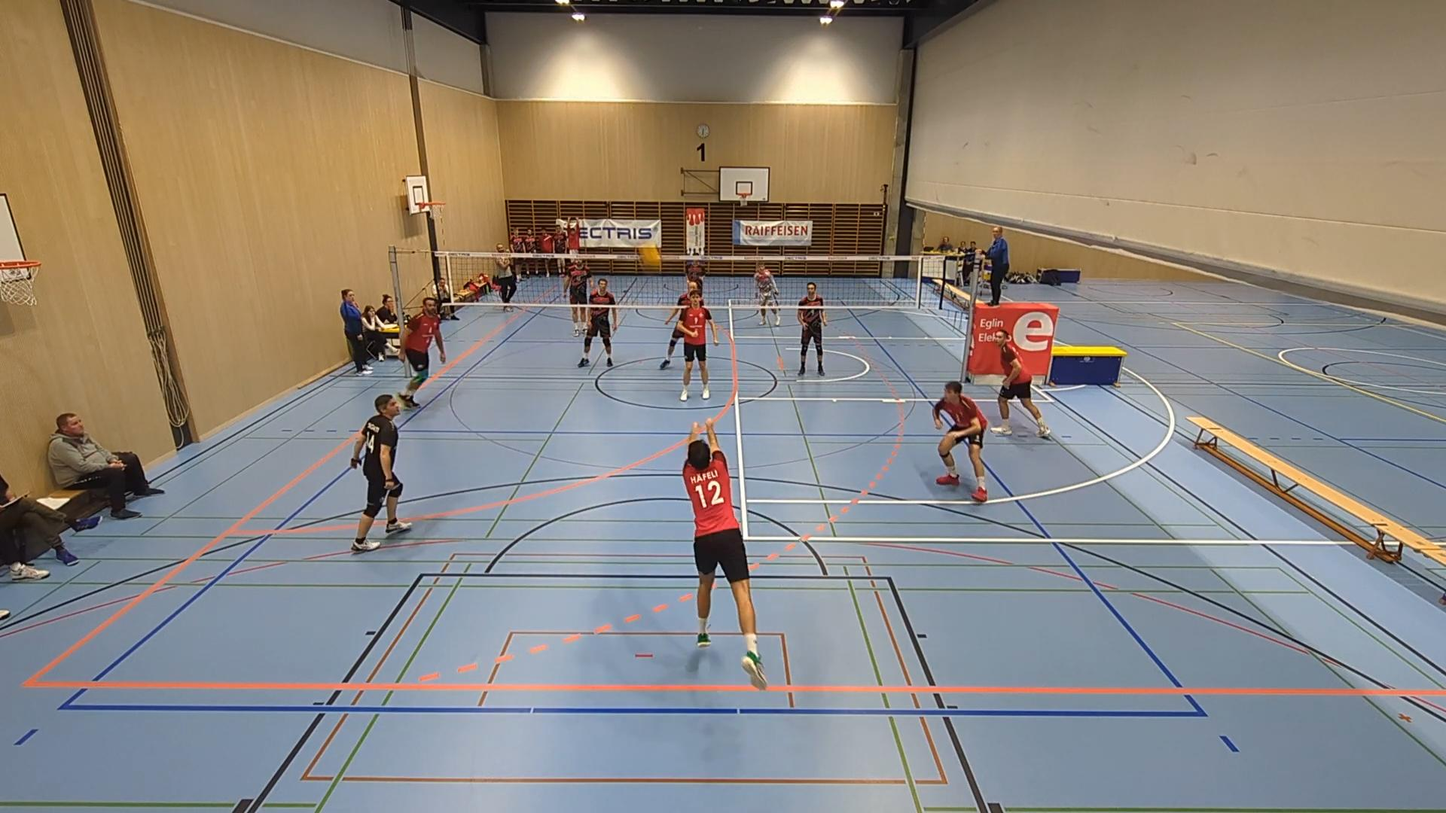ricezione: (683, 416, 768, 689)
